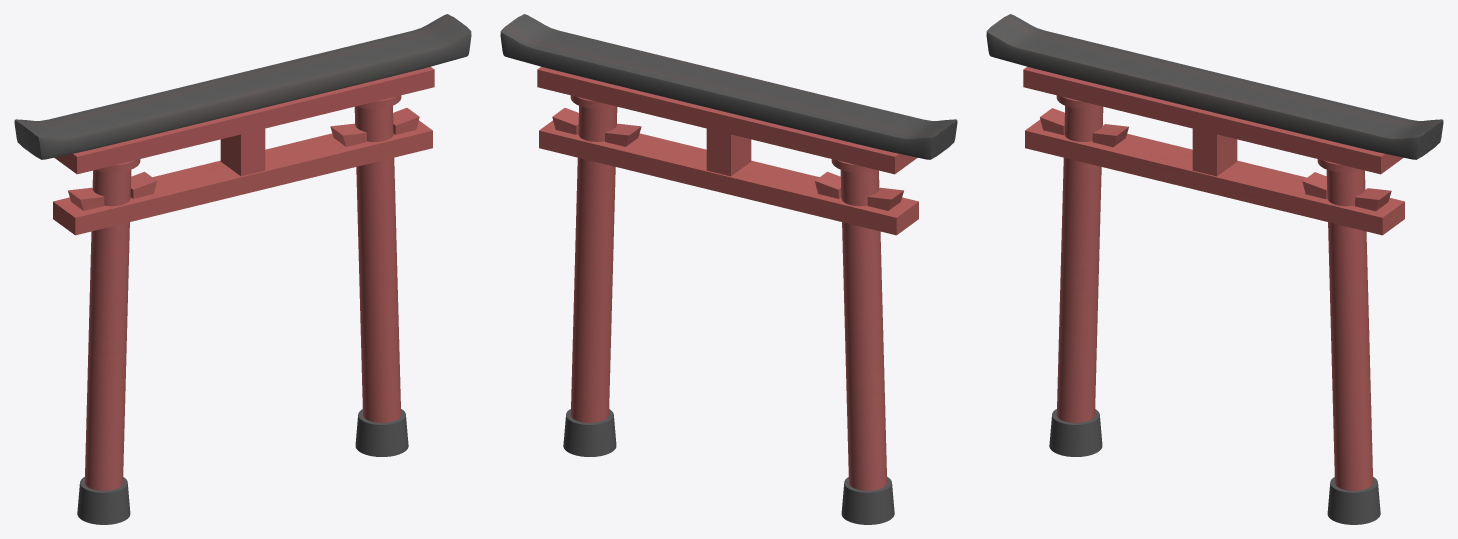
The model's file is torii.obj.
3 renders of one model, left to right at view 1: azimuth 30°, elevation 25°; view 2: azimuth 150°, elevation 25°; view 3: azimuth 330°, elevation 25°, orthographic.
Visible parts, largest first — view 1: 鳥居.001; view 2: 鳥居.001; view 3: 鳥居.001.
Boxes of the visible parts, x1,y1,x2,y2 form: 鳥居.001: [14, 14, 471, 524]; 鳥居.001: [500, 14, 957, 524]; 鳥居.001: [986, 14, 1443, 524].
Size of the model in its own units: 4.18 by 3.72 by 0.4656.
1 material, 1 textured.
